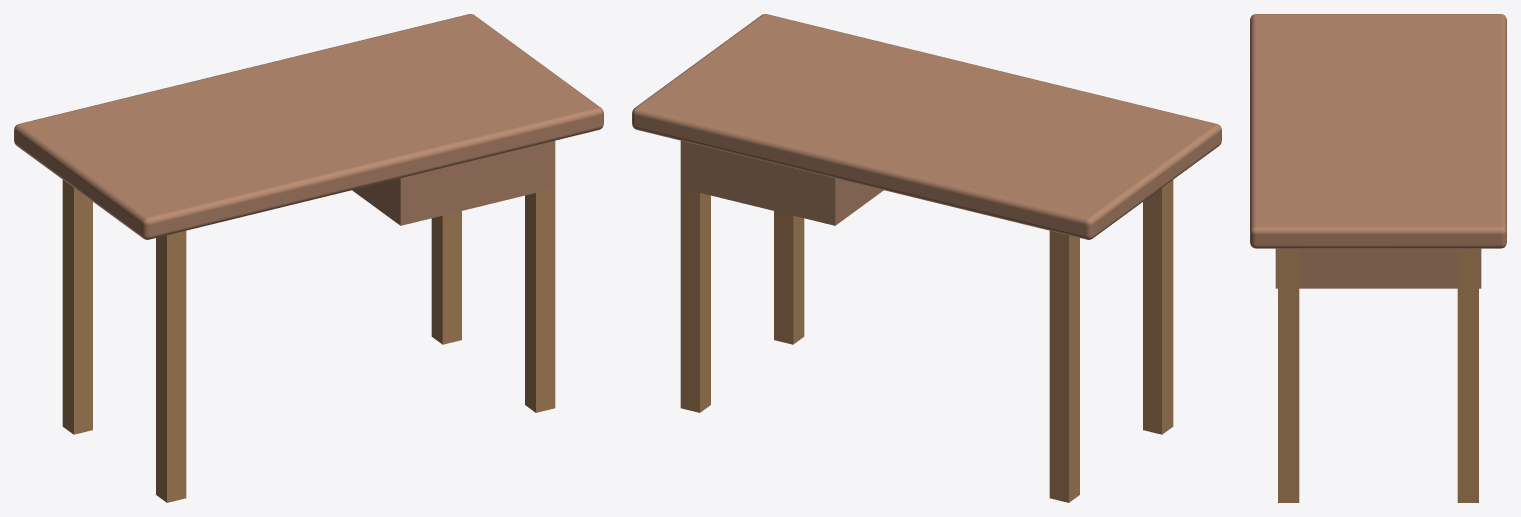
The model's file is desk.glb.
3 renders of one model, left to right at view 1: azimuth 30°, elevation 25°; view 2: azimuth 150°, elevation 25°; view 3: azimuth 270°, elevation 25°, orthographic. The views are drawn at different scales.
Visible parts, largest first — view 1: poc-desk-part-73, poc-desk-part-78, poc-desk-part-75, poc-desk-part-74, poc-desk-part-77, poc-desk-part-76; view 2: poc-desk-part-73, poc-desk-part-78, poc-desk-part-74, poc-desk-part-75, poc-desk-part-76, poc-desk-part-77; view 3: poc-desk-part-73, poc-desk-part-78, poc-desk-part-76, poc-desk-part-77.
Part boxes in pixels (left/top/right/bottom): poc-desk-part-73: left=14, top=14, right=603, bottom=239; poc-desk-part-78: left=352, top=141, right=554, bottom=225; poc-desk-part-75: left=156, top=231, right=186, bottom=502; poc-desk-part-74: left=62, top=180, right=92, bottom=434; poc-desk-part-77: left=525, top=140, right=555, bottom=412; poc-desk-part-76: left=431, top=211, right=461, bottom=344; poc-desk-part-73: left=632, top=14, right=1221, bottom=239; poc-desk-part-78: left=681, top=141, right=883, bottom=225; poc-desk-part-74: left=1049, top=231, right=1079, bottom=502; poc-desk-part-75: left=1143, top=180, right=1173, bottom=434; poc-desk-part-76: left=680, top=140, right=710, bottom=412; poc-desk-part-77: left=774, top=211, right=804, bottom=344; poc-desk-part-73: left=1250, top=14, right=1506, bottom=248; poc-desk-part-78: left=1275, top=248, right=1481, bottom=288; poc-desk-part-76: left=1457, top=248, right=1478, bottom=502; poc-desk-part-77: left=1278, top=248, right=1299, bottom=502.
Size of the model in its own units: 1.2 by 0.75 by 0.6.
